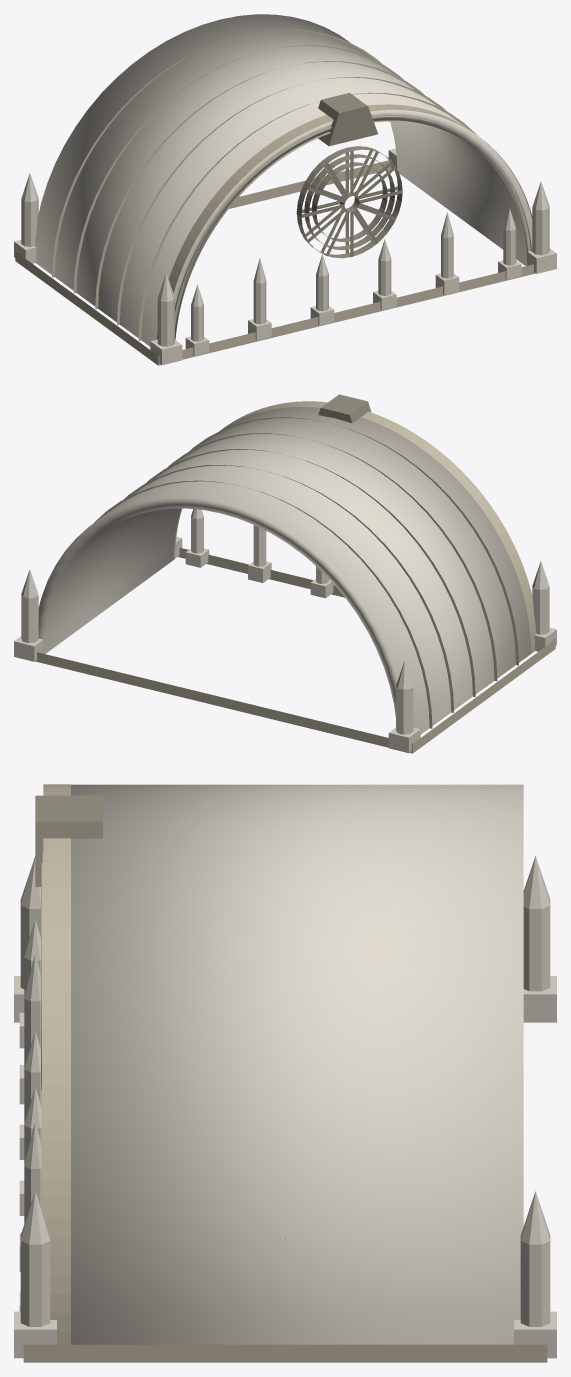
Rendered from arch.fbx.
The picture shows the model from 3 angles, top to bottom: view 1: azimuth 30°, elevation 25°; view 2: azimuth 150°, elevation 25°; view 3: azimuth 270°, elevation 25°; orthographic projection. The views are drawn at different scales.
Visible parts, largest first — view 1: ArchCrown_BarrelVault, ArchCrown_RoseFrame, ArchCrown_Cornice, ArchCrown_FrontArch, ArchCrown_Keystone, ArchCrown_Pinnacle_-5.00, ArchCrown_Pinnacle_5.00, ArchCrown_Pinnacle_-5.001, ArchCrown_Pinnacle_-2.50, ArchCrown_Pinnacle_2.50, ArchCrown_Rib_4, ArchCrown_Rib_0 (+7 smaller); view 2: ArchCrown_BarrelVault, ArchCrown_Cornice, ArchCrown_FrontArch, ArchCrown_Pinnacle_-5.001, ArchCrown_Pinnacle_5.001, ArchCrown_Pinnacle_-5.00, ArchCrown_Rib_4, ArchCrown_Rib_0, ArchCrown_Rib_1, ArchCrown_Rib_2, ArchCrown_Rib_3, ArchCrown_Keystone (+3 smaller); view 3: ArchCrown_BarrelVault, ArchCrown_FrontArch, ArchCrown_Cornice, ArchCrown_Pinnacle_5.00, ArchCrown_Pinnacle_5.001, ArchCrown_Pinnacle_-5.001, ArchCrown_Keystone, ArchCrown_Pinnacle_-5.00, ArchCrown_Pinnacle_-2.50, ArchCrown_Pinnacle_2.50, ArchCrown_Pinnacle_-0.83, ArchCrown_Pinnacle_0.83 (+1 smaller).
Boxes of the visible parts, bbox=[...] form: ArchCrown_BarrelVault: bbox=[34, 14, 532, 346]; ArchCrown_RoseFrame: bbox=[296, 146, 402, 258]; ArchCrown_Cornice: bbox=[15, 160, 535, 365]; ArchCrown_FrontArch: bbox=[157, 104, 532, 339]; ArchCrown_Keystone: bbox=[318, 93, 377, 146]; ArchCrown_Pinnacle_-5.00: bbox=[150, 273, 182, 365]; ArchCrown_Pinnacle_5.00: bbox=[528, 181, 556, 273]; ArchCrown_Pinnacle_-5.001: bbox=[14, 173, 38, 263]; ArchCrown_Pinnacle_-2.50: bbox=[248, 258, 271, 340]; ArchCrown_Pinnacle_2.50: bbox=[435, 212, 459, 294]; ArchCrown_Rib_4: bbox=[52, 29, 381, 277]; ArchCrown_Rib_0: bbox=[138, 92, 476, 340]; ArchCrown_BarrelVault: bbox=[38, 407, 531, 734]; ArchCrown_Cornice: bbox=[35, 547, 555, 753]; ArchCrown_FrontArch: bbox=[173, 401, 536, 653]; ArchCrown_Pinnacle_-5.001: bbox=[388, 661, 420, 753]; ArchCrown_Pinnacle_5.001: bbox=[14, 569, 43, 661]; ArchCrown_Pinnacle_-5.00: bbox=[532, 561, 556, 651]; ArchCrown_Rib_4: bbox=[93, 480, 432, 728]; ArchCrown_Rib_0: bbox=[189, 417, 518, 665]; ArchCrown_Rib_1: bbox=[167, 433, 497, 681]; ArchCrown_Rib_2: bbox=[145, 449, 475, 697]; ArchCrown_Rib_3: bbox=[124, 464, 453, 712]; ArchCrown_Keystone: bbox=[318, 394, 371, 423]; ArchCrown_BarrelVault: bbox=[71, 784, 523, 1344]; ArchCrown_FrontArch: bbox=[41, 784, 70, 1344]; ArchCrown_Cornice: bbox=[23, 1344, 547, 1362]; ArchCrown_Pinnacle_5.00: bbox=[14, 1191, 56, 1358]; ArchCrown_Pinnacle_5.001: bbox=[514, 1191, 556, 1358]; ArchCrown_Pinnacle_-5.001: bbox=[523, 856, 556, 1022]; ArchCrown_Keystone: bbox=[35, 795, 102, 886]; ArchCrown_Pinnacle_-5.00: bbox=[14, 856, 40, 1022]; ArchCrown_Pinnacle_-2.50: bbox=[19, 954, 40, 1104]; ArchCrown_Pinnacle_2.50: bbox=[19, 1122, 41, 1271]; ArchCrown_Pinnacle_-0.83: bbox=[19, 1031, 41, 1159]; ArchCrown_Pinnacle_0.83: bbox=[19, 1087, 41, 1215].
Bounding box in the file's own units: 1060 × 523 × 684.
